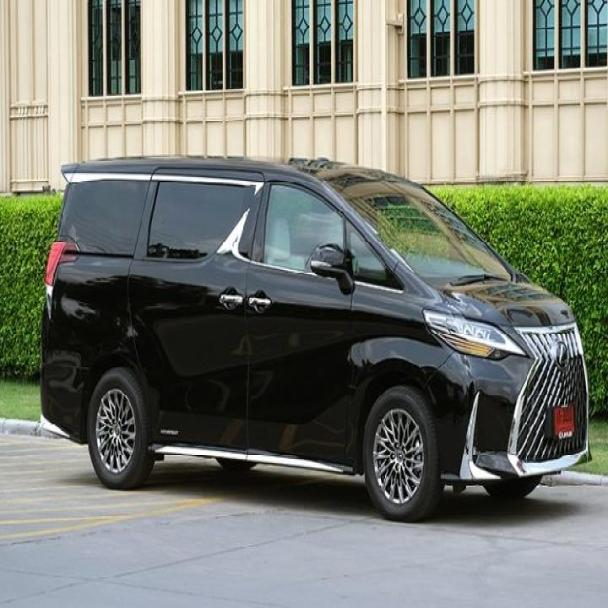Mobil: (31, 144, 598, 521)
